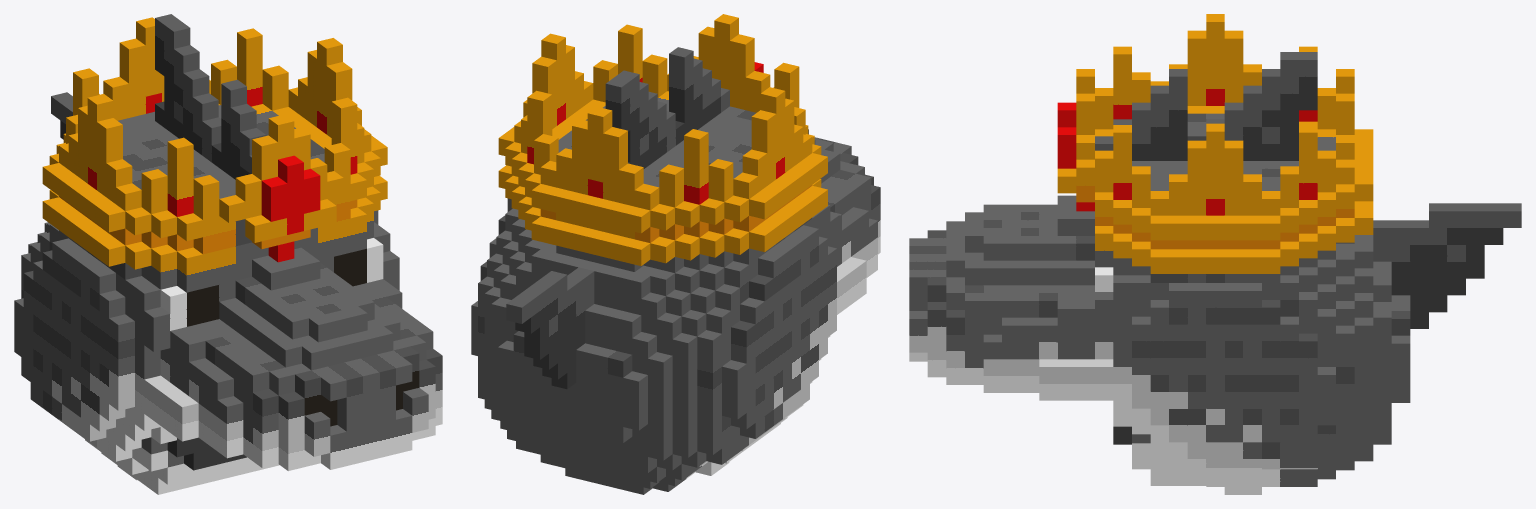
File: king crown_rainbow shades.gltf
3 renders of one model, left to right at view 1: azimuth 30°, elevation 25°; view 2: azimuth 150°, elevation 25°; view 3: azimuth 270°, elevation 25°, orthographic. The views are drawn at different scales.
Visible parts, largest first — view 1: C31_H_KingCrown_CoolDude_3DG_RBShade-Mesh; view 2: C31_H_KingCrown_CoolDude_3DG_RBShade-Mesh; view 3: C31_H_KingCrown_CoolDude_3DG_RBShade-Mesh.
Boxes of the visible parts, x1,y1,x2,y2 form: C31_H_KingCrown_CoolDude_3DG_RBShade-Mesh: (14, 14, 442, 494); C31_H_KingCrown_CoolDude_3DG_RBShade-Mesh: (471, 14, 880, 494); C31_H_KingCrown_CoolDude_3DG_RBShade-Mesh: (909, 14, 1521, 494).
Size of the model in its own units: 17 by 24 by 33.
1 material, 1 textured.
